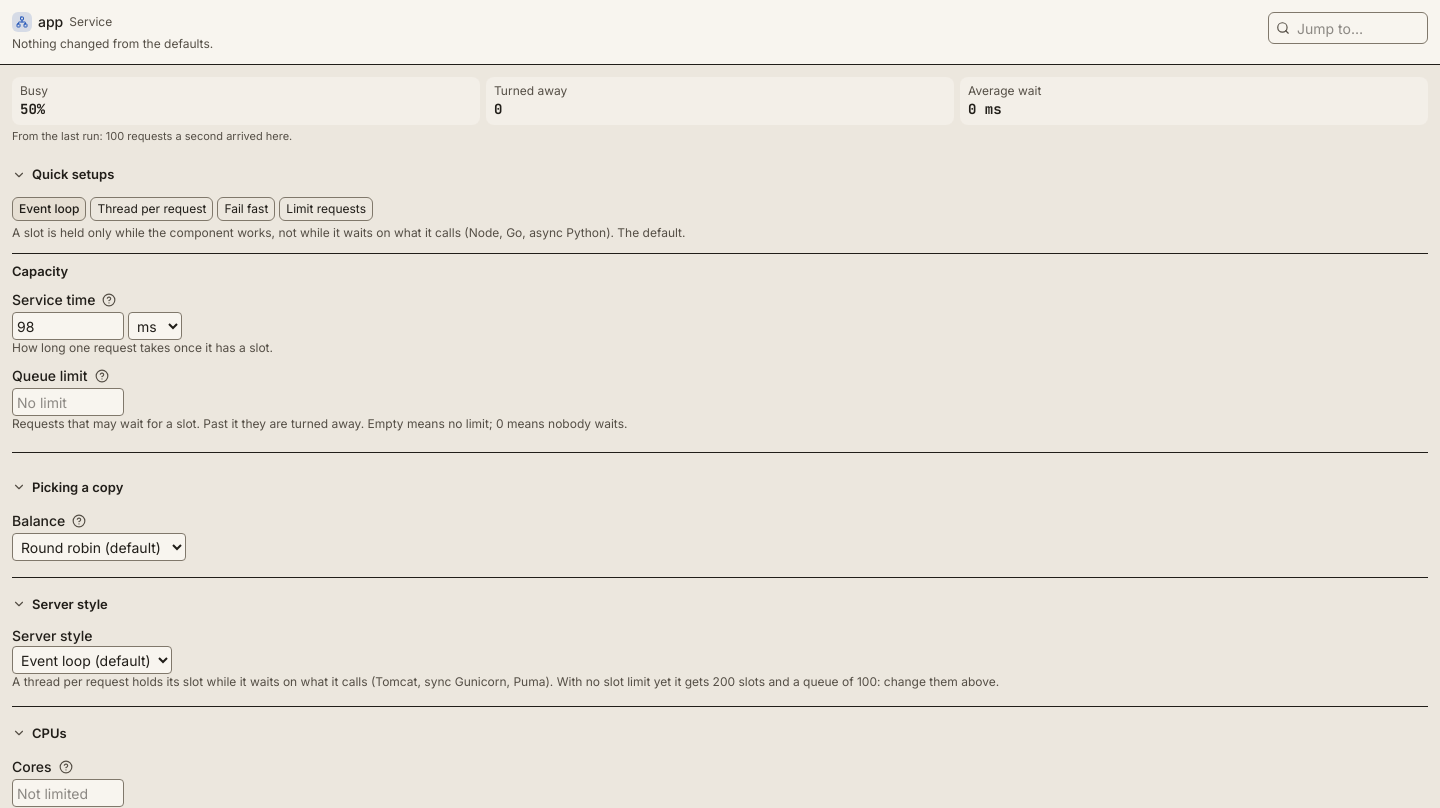
Test: a_refused_edit_puts_the_old_value_back_in_the_box
Replace the text in the number field labelled "Service time" with "20" at (68, 326), box [12,312,124,340]
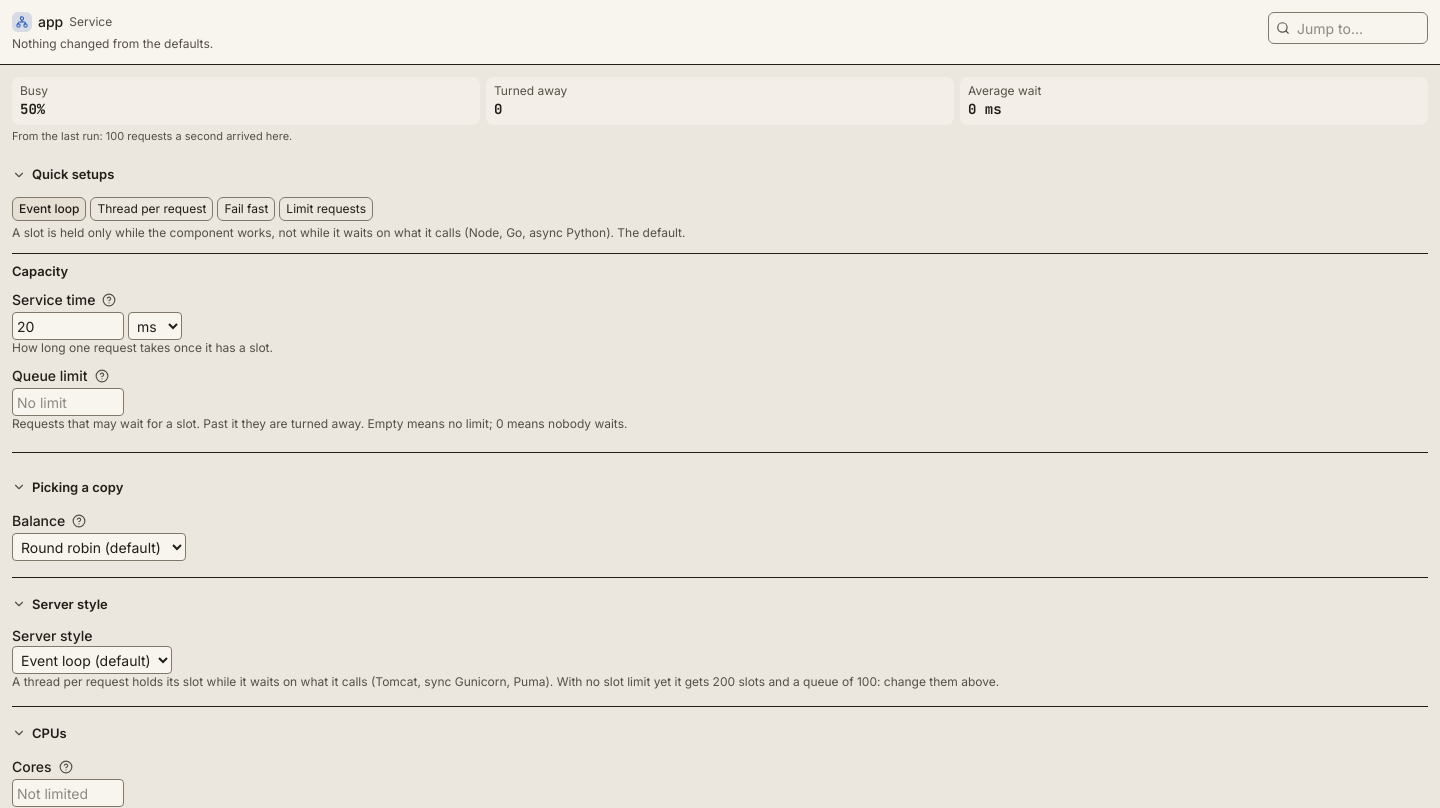
Leave the number field labelled "Service time", box [12,312,124,340]
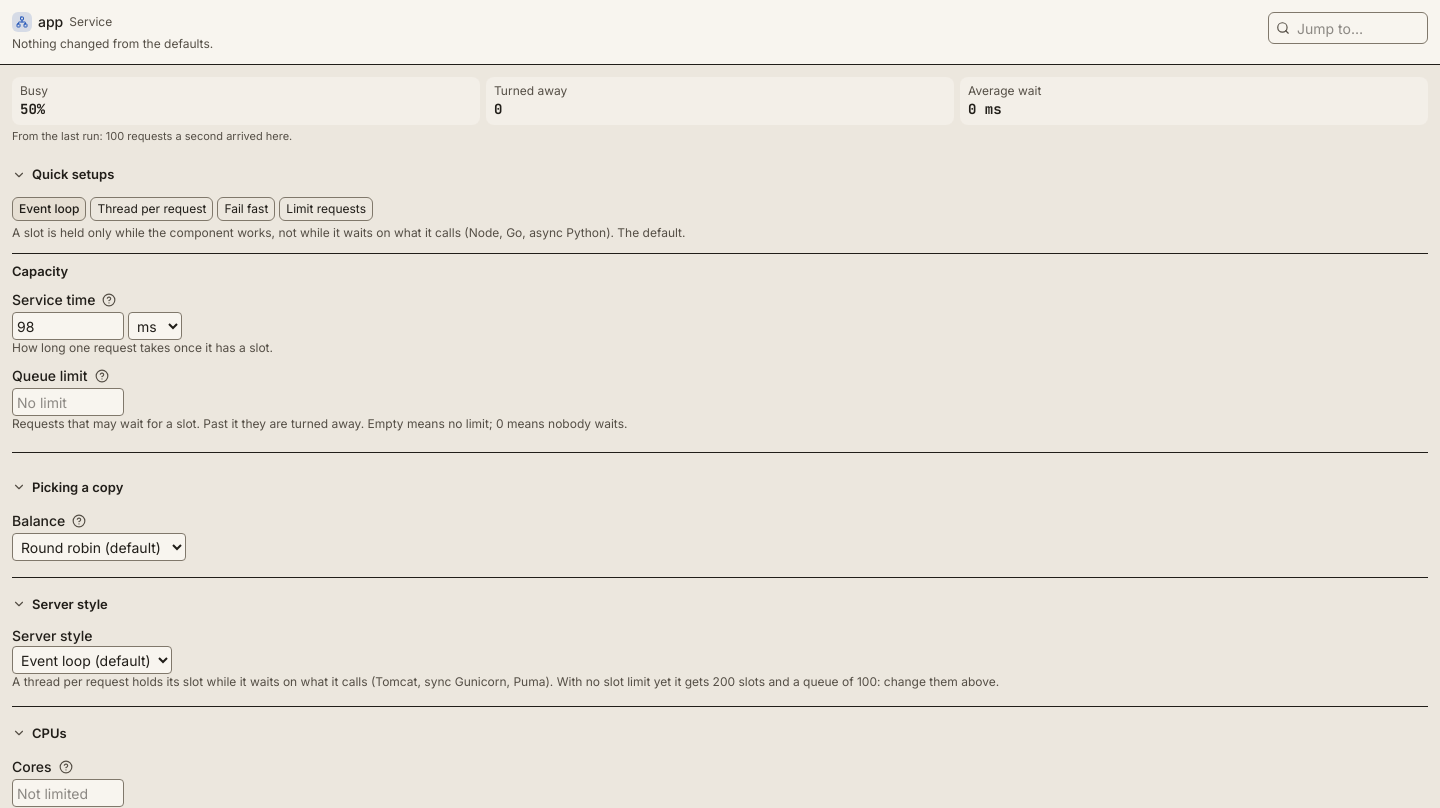
Result: the number field labelled "Service time" holds "98" at [12,312,124,340]
